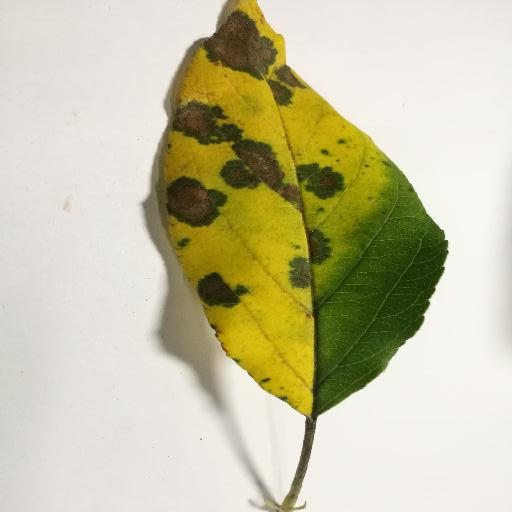Brown_Spot: (191, 16, 312, 91), (230, 143, 306, 211), (154, 176, 228, 230), (168, 105, 248, 146), (313, 167, 333, 193)
